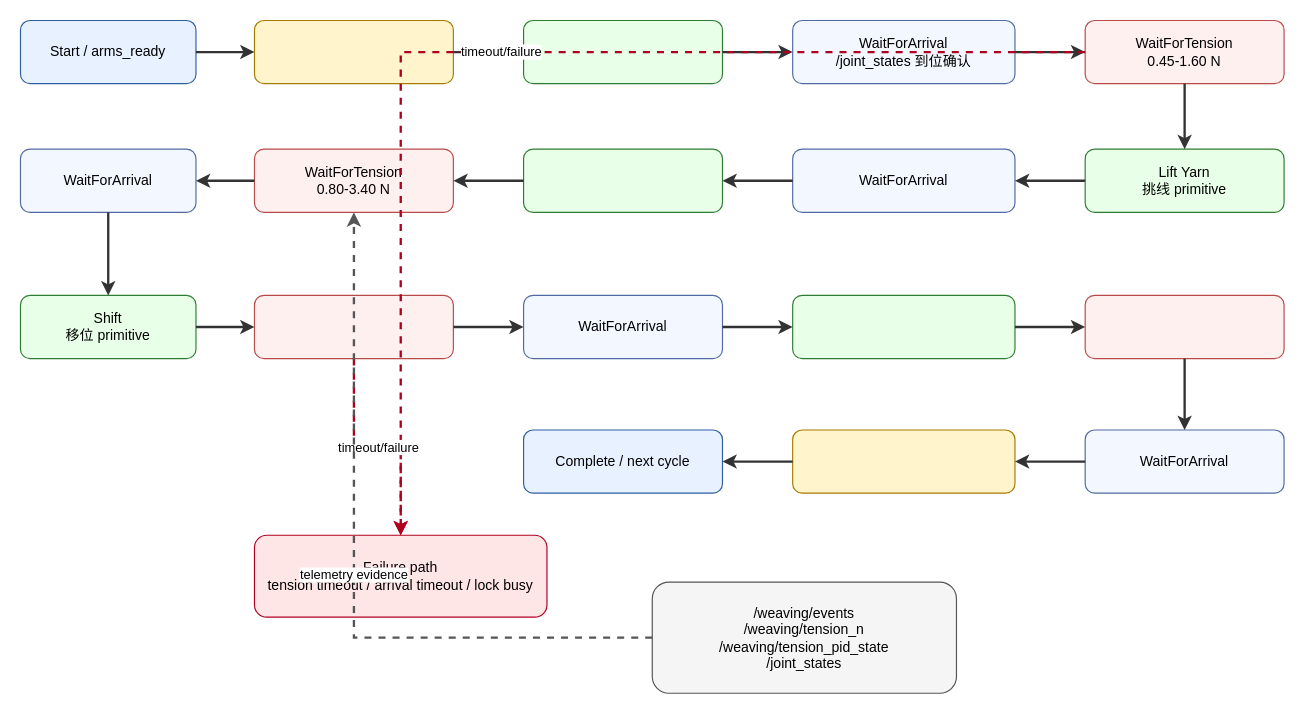
This 1305x714 diagram has some shape labels left out. Here are the shapes that lost their labels. From the top down, the box of each, then its label:
(253, 19, 453, 84): AcquirePrimitiveLock 互锁占用
(522, 19, 722, 84): Hook Yarn 勾线 primitive
(522, 148, 722, 212): Pull Tight 拉紧 primitive
(253, 294, 453, 359): WaitForTension 0.70-3.20 N
(792, 294, 1015, 359): Exchange 换位 primitive
(1084, 294, 1284, 359): WaitForTension 0.35-2.00 N
(792, 429, 1015, 493): Open right gripper ReleasePrimitiveLock
